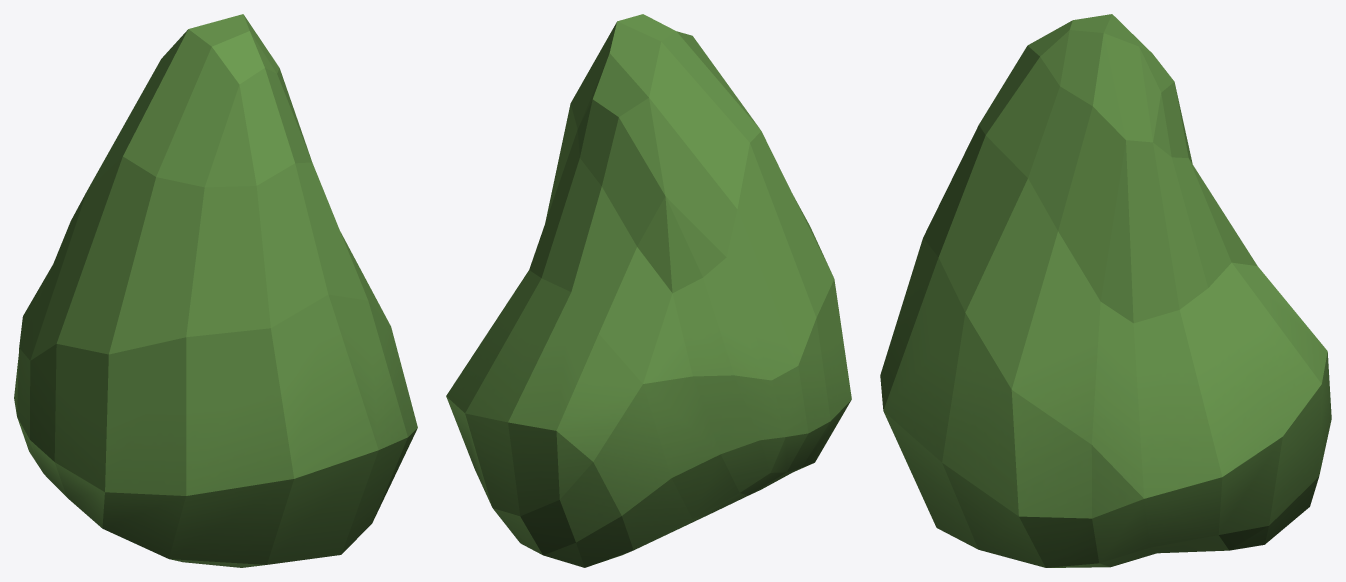
File: Birch-Bush-01.fbx
The picture shows the model from 3 angles, left to right: view 1: azimuth 30°, elevation 25°; view 2: azimuth 150°, elevation 25°; view 3: azimuth 270°, elevation 25°; orthographic projection. The views are drawn at different scales.
Visible parts, largest first — view 1: Birch-Bush-01; view 2: Birch-Bush-01; view 3: Birch-Bush-01.
Part boxes in pixels (left/top/right/bottom): Birch-Bush-01: left=14, top=14, right=417, bottom=567; Birch-Bush-01: left=446, top=14, right=851, bottom=567; Birch-Bush-01: left=880, top=14, right=1331, bottom=567.
Bounding box in the file's own units: 418 × 586 × 470.
Materials: 1 (1 with a texture image).
